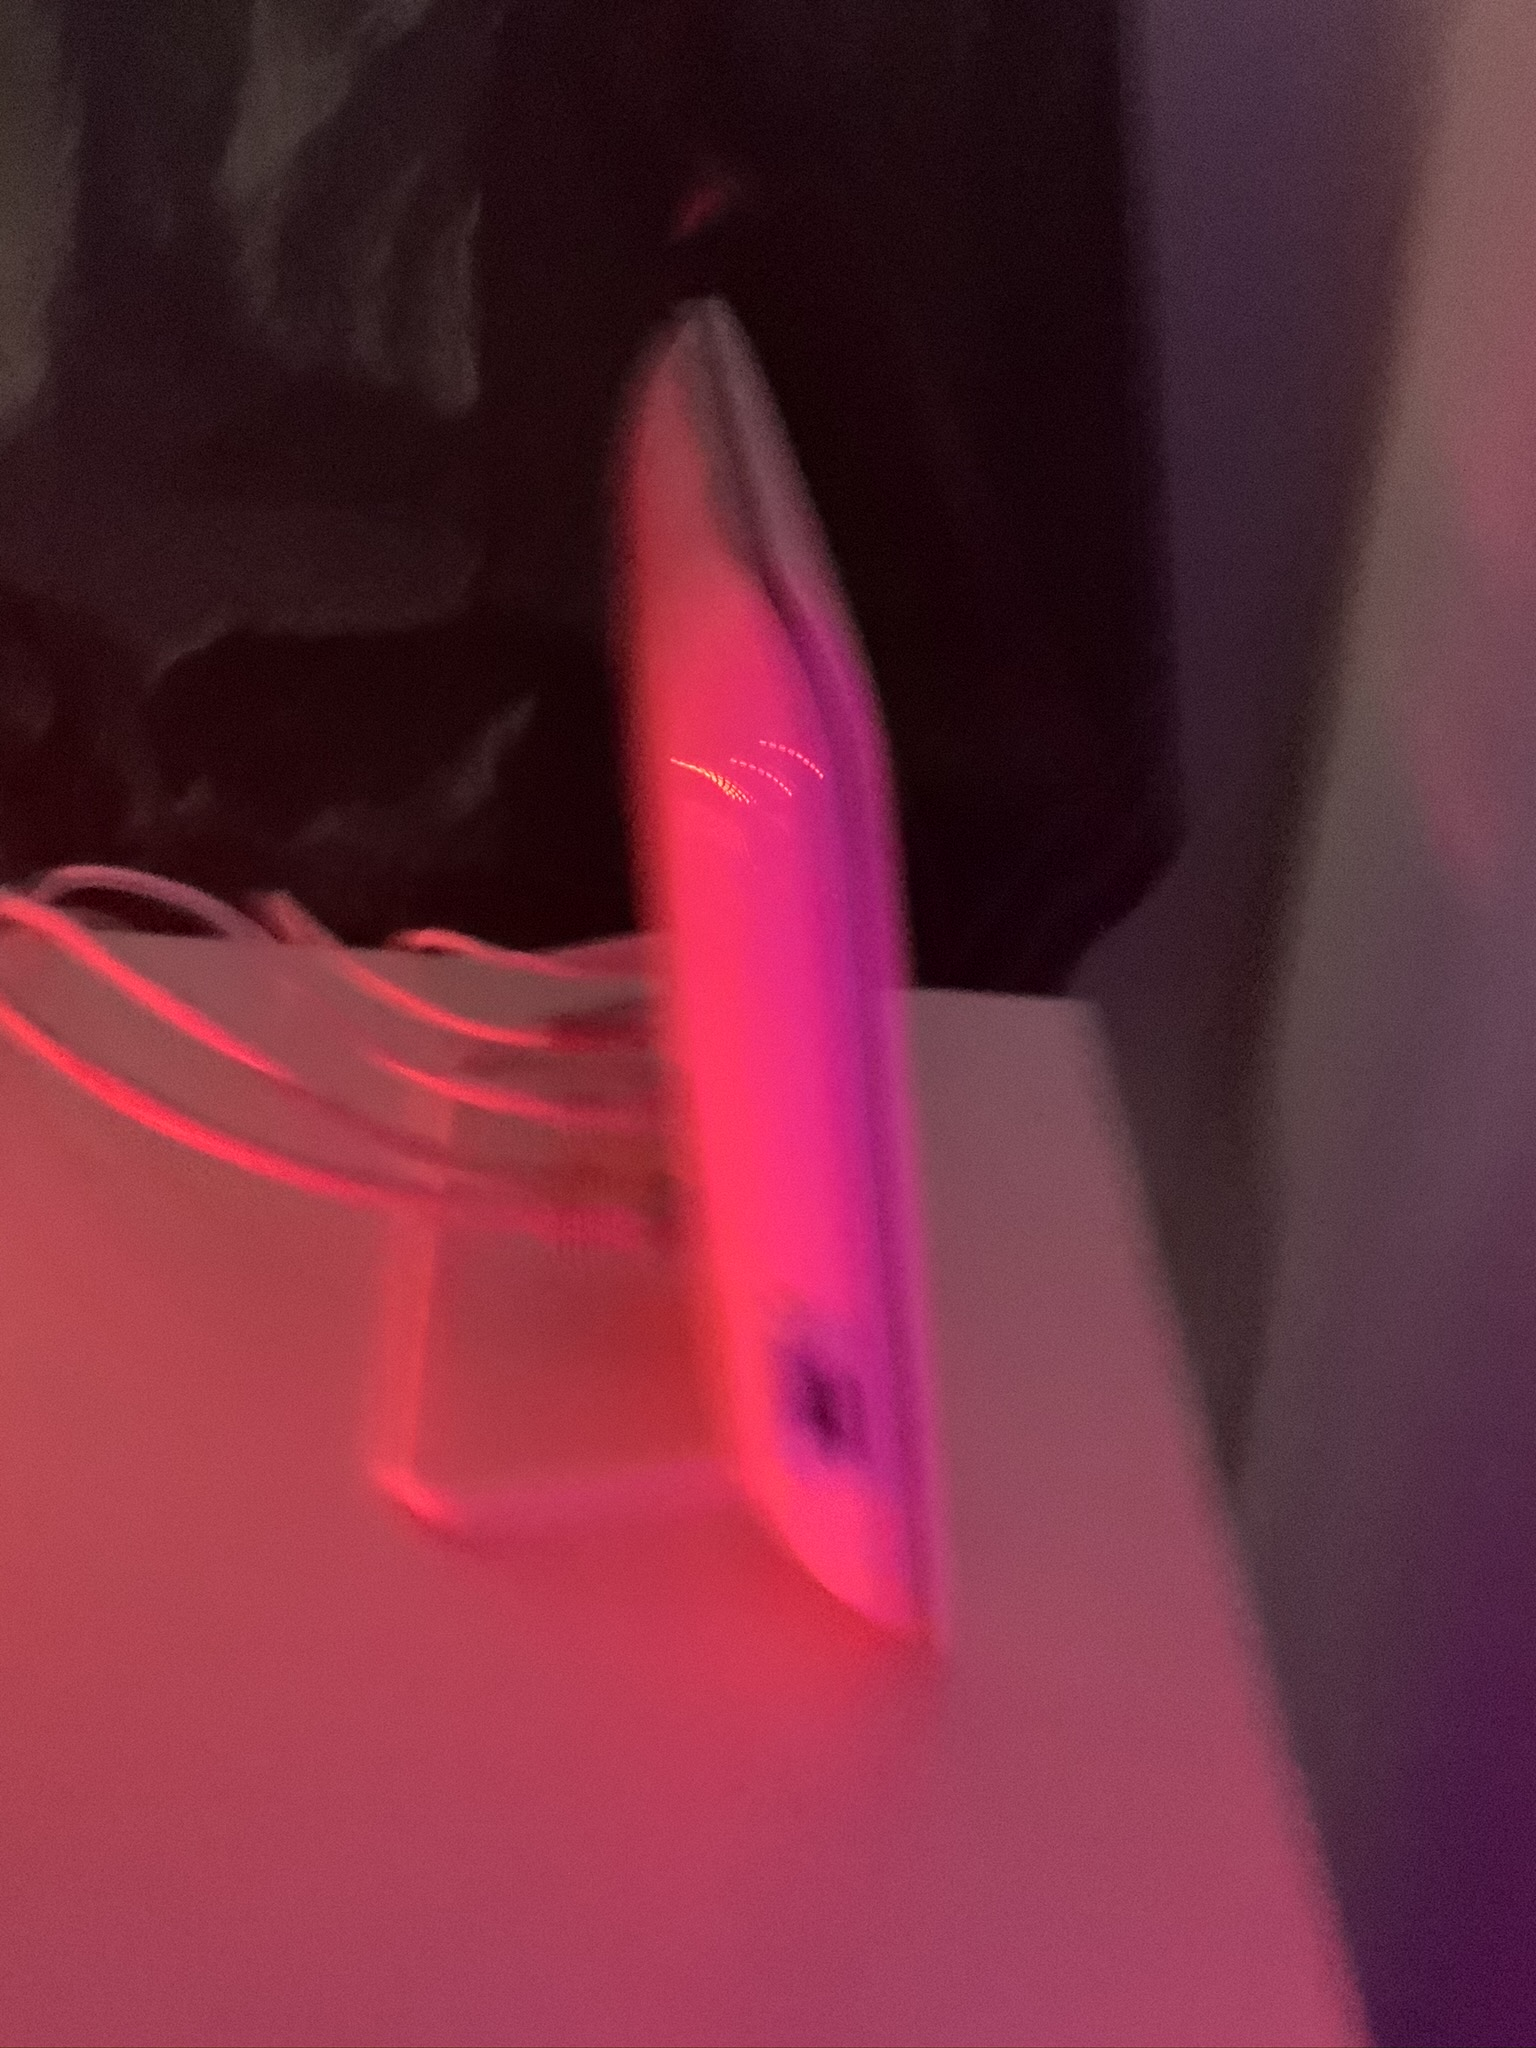router: (608, 276, 991, 1664)
